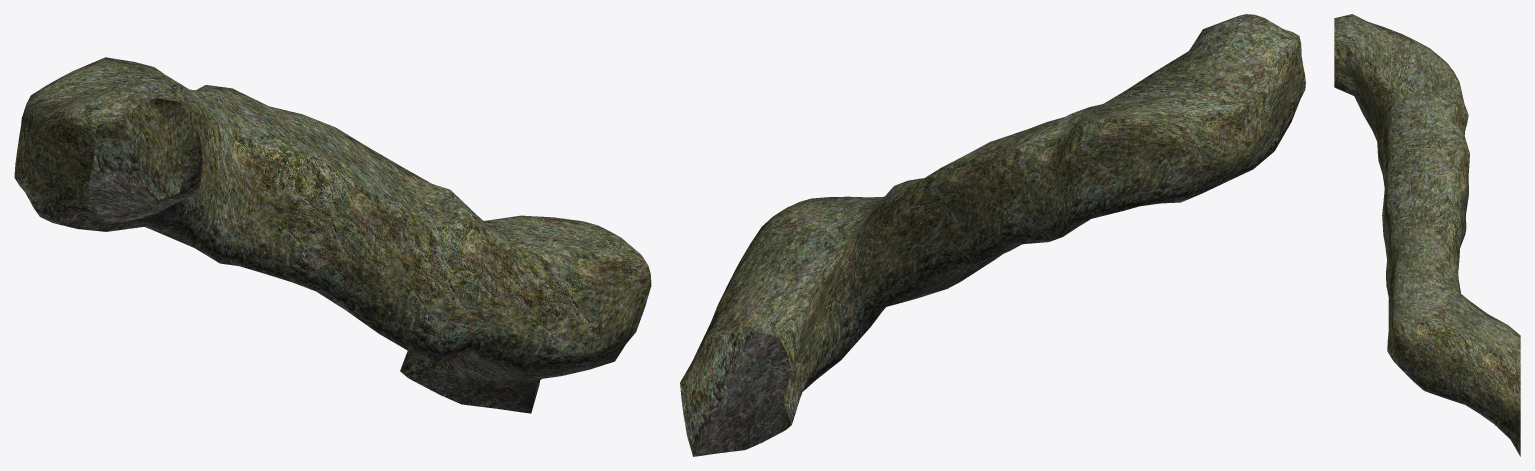
Rendered from thm_all_cave_s02_damprock_r1_mesh_r1.fbx.
3 renders of one model, left to right at view 1: azimuth 30°, elevation 25°; view 2: azimuth 150°, elevation 25°; view 3: azimuth 270°, elevation 25°, orthographic. The views are drawn at different scales.
Parts seen in each view (by area): view 1: mesh_node; view 2: mesh_node; view 3: mesh_node.
Boxes of the visible parts, x1,y1,x2,y2 form: mesh_node: (14,57,651,413); mesh_node: (680,14,1305,456); mesh_node: (1334,14,1520,456).
Bounding box in the file's own units: 53.32 × 45.87 × 26.29.
